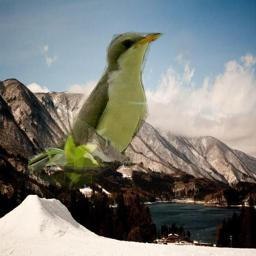Cuckoo: (28, 28, 166, 190)
